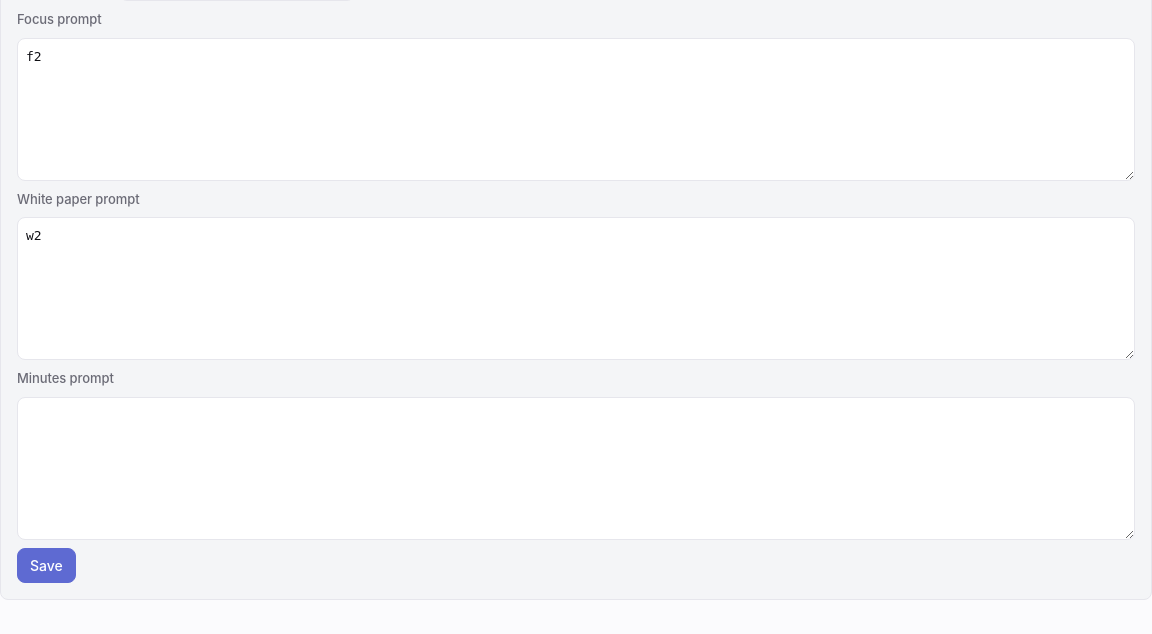
PromptTemplateEditor — template mutation failures surface › an updateTemplate (Save) failure raises an error toast
Step 1. Type " edited" into the text box labelled "Focus prompt" → (576, 109), box [17,38,1135,181]
(page scrolled)
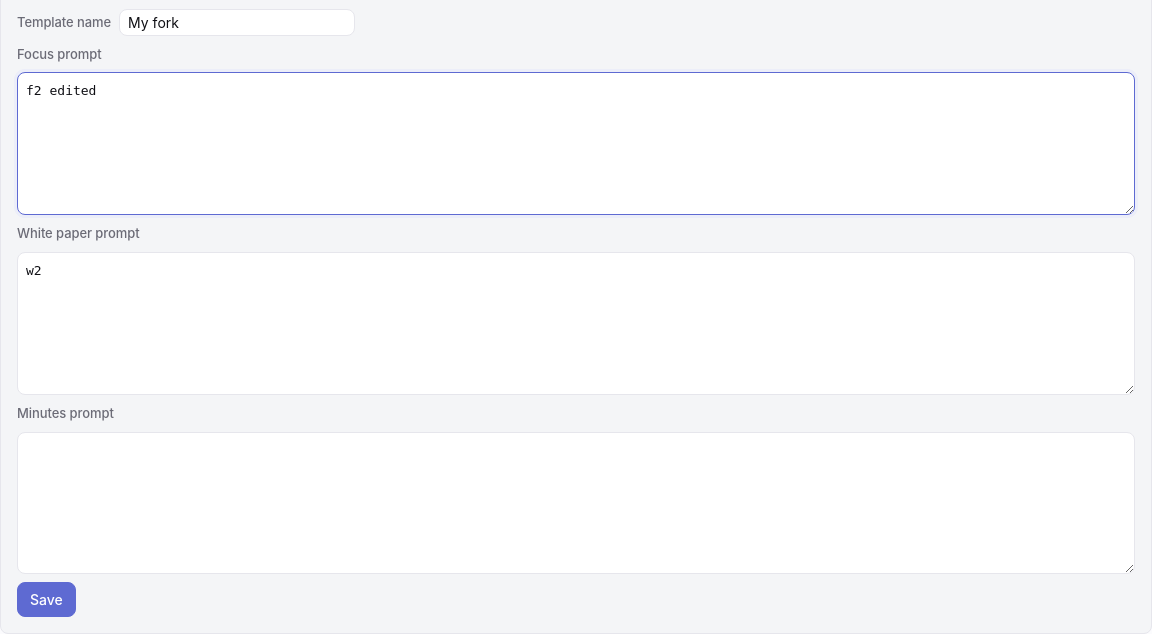
Step 2. Click the button "Save" → (46, 600), box [17,582,76,617]
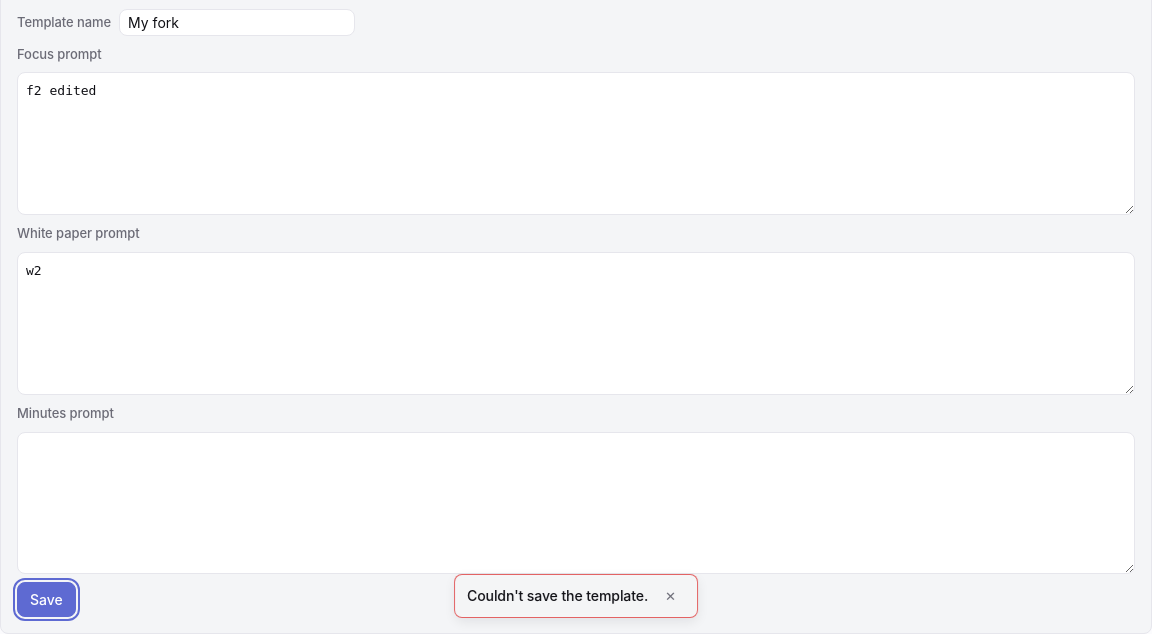
Expected: the text "Couldn't save the template." is shown, [467,585,648,607]
